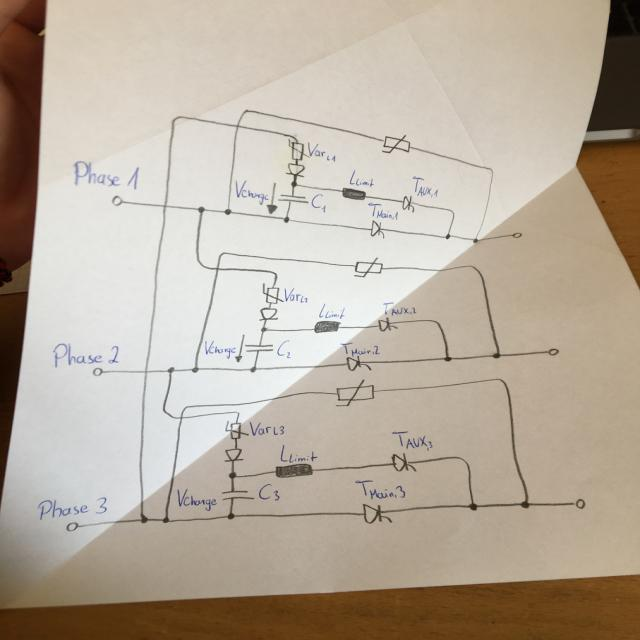capacitor: (219, 489, 255, 501), (276, 193, 309, 204), (243, 343, 274, 353)
crossover: (212, 265, 222, 272), (160, 202, 170, 209), (233, 122, 241, 129), (141, 368, 150, 374), (177, 415, 185, 420)
diode: (257, 306, 279, 322), (222, 447, 244, 463), (284, 162, 304, 177)
inductor: (274, 462, 313, 478), (312, 319, 340, 334), (340, 186, 367, 201)
junction: (455, 456, 471, 466), (160, 408, 174, 419), (467, 264, 482, 274), (495, 377, 508, 387), (427, 318, 441, 327), (195, 259, 207, 269), (138, 513, 148, 524), (240, 108, 252, 117), (170, 115, 182, 124), (467, 502, 478, 511), (217, 251, 229, 259), (226, 471, 238, 479), (248, 364, 258, 373), (519, 500, 530, 508), (286, 133, 298, 140), (226, 511, 235, 520), (180, 404, 190, 412), (196, 205, 206, 213), (165, 366, 176, 373), (289, 180, 298, 188), (190, 366, 200, 373), (442, 355, 452, 362), (491, 352, 502, 358), (447, 208, 455, 216), (282, 215, 290, 223), (486, 167, 495, 174), (259, 326, 269, 332), (161, 516, 169, 523), (444, 232, 451, 240), (223, 208, 231, 215), (270, 270, 278, 276), (471, 237, 478, 243), (233, 410, 240, 414)
terminal: (110, 194, 124, 207), (571, 497, 586, 509), (90, 366, 104, 377), (65, 521, 79, 532), (546, 347, 560, 356), (510, 231, 522, 239)
text: (71, 159, 139, 191), (51, 341, 120, 368), (36, 496, 108, 520), (354, 479, 406, 500), (175, 487, 217, 512), (233, 178, 269, 204), (390, 430, 432, 451), (278, 443, 318, 463), (306, 140, 337, 162), (203, 339, 236, 359), (339, 341, 380, 357), (412, 175, 438, 198), (248, 420, 284, 436), (381, 300, 417, 316), (368, 201, 398, 220), (348, 168, 373, 188), (318, 302, 346, 319), (257, 482, 280, 502), (284, 287, 308, 304), (275, 338, 292, 358), (310, 193, 326, 213)
thyristor: (362, 502, 392, 524), (391, 452, 416, 471), (344, 355, 372, 371), (377, 317, 397, 331), (369, 220, 385, 236), (401, 195, 415, 210)
